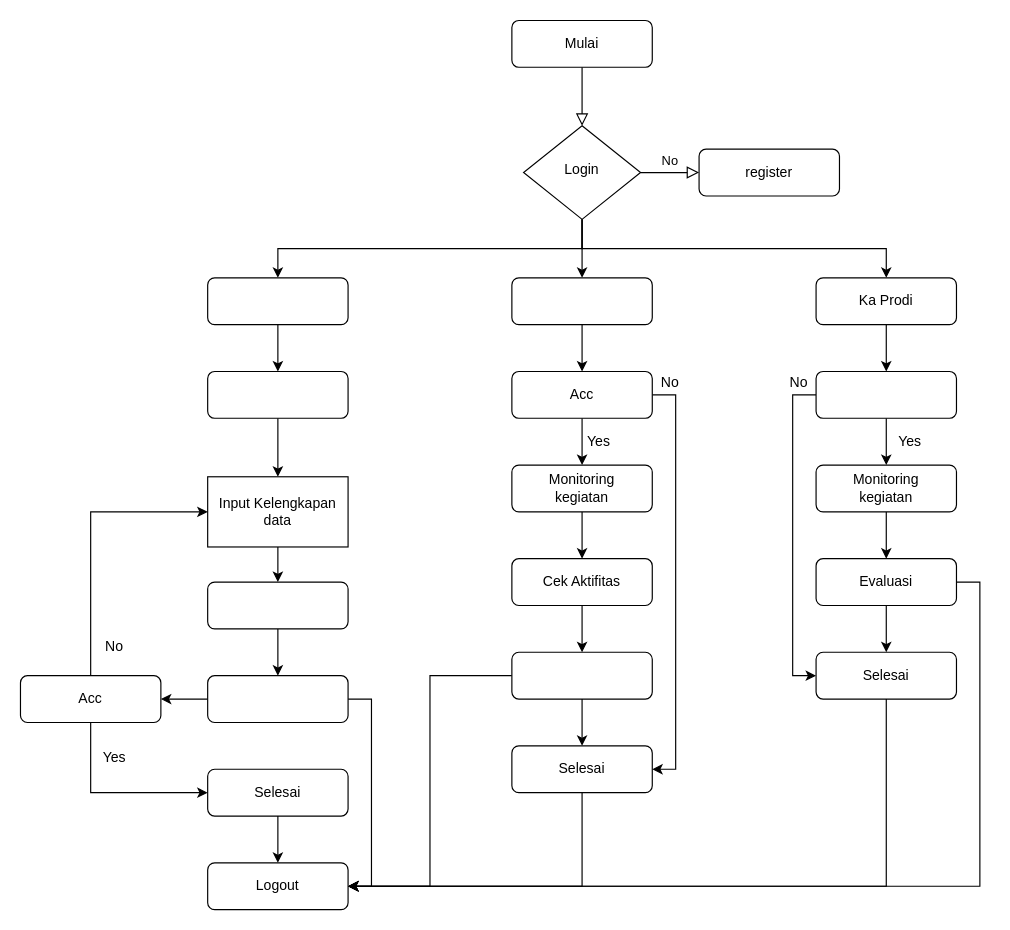
Image size: 1010x930. Some labels were removed from this diagram. The centre of each missing label's shape, as x and y in pixels:
Acc Kegiatan dan dosen: the point at 885,394
Dosen: the point at 581,301
Input Progres: the point at 277,605
Laporan: the point at 277,698
Mahasiswa: the point at 277,301
Pilih Kegiatan: the point at 277,394
Revisi Laporan: the point at 581,675
